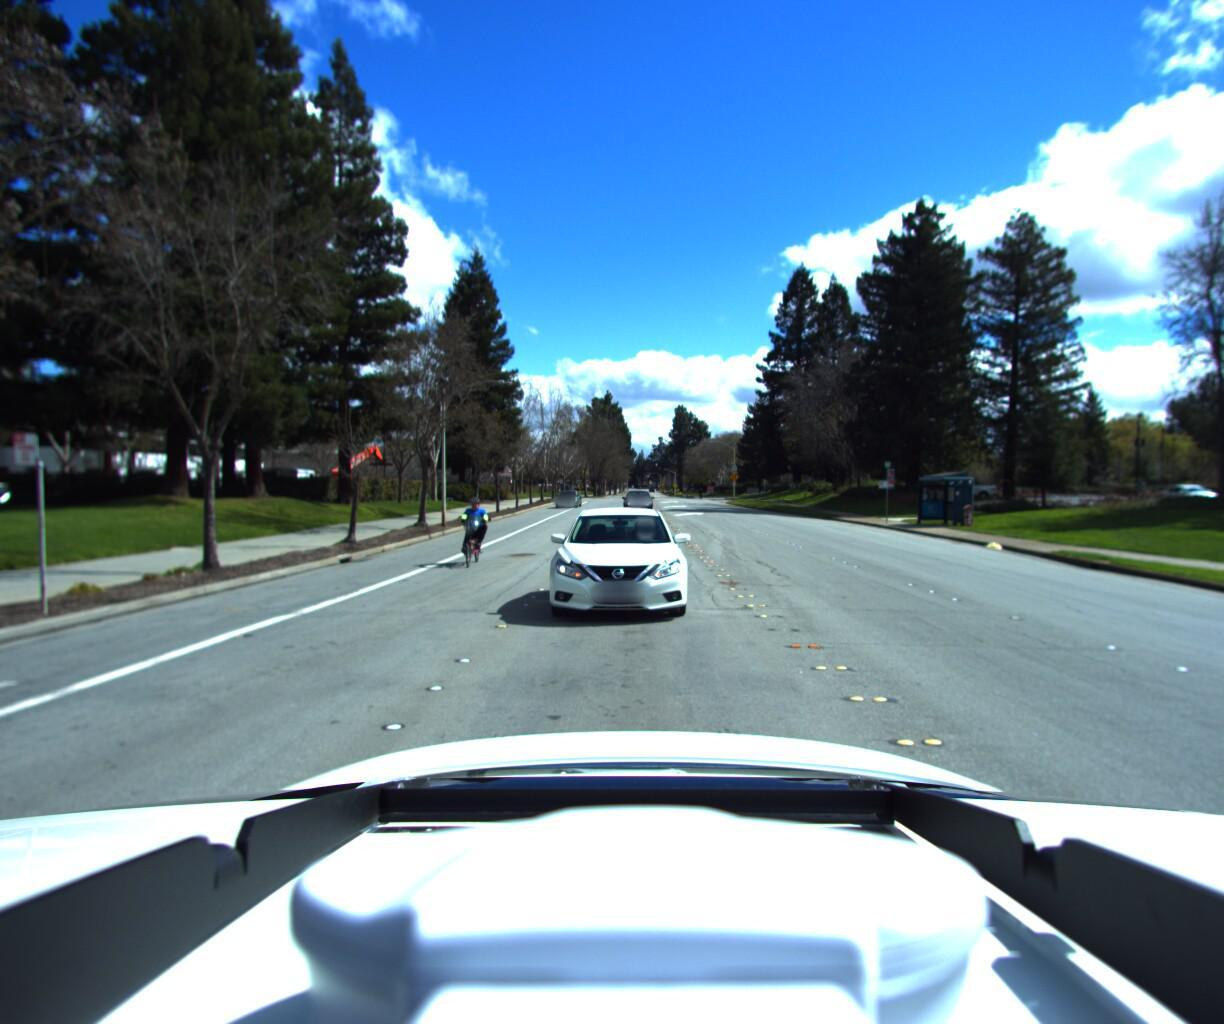bicycle: (451, 500, 491, 574)
car: (543, 506, 687, 635), (621, 495, 649, 521)
